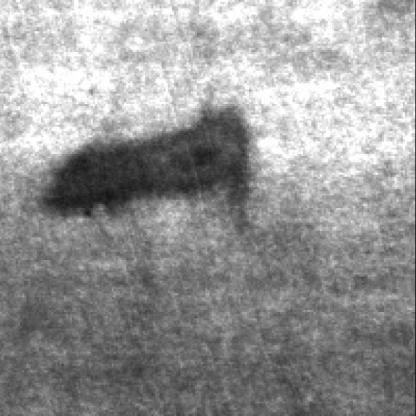patches: (36, 106, 248, 233)
